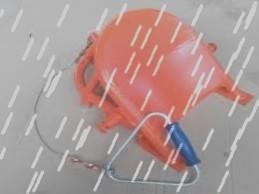chock: (68, 1, 259, 179)
